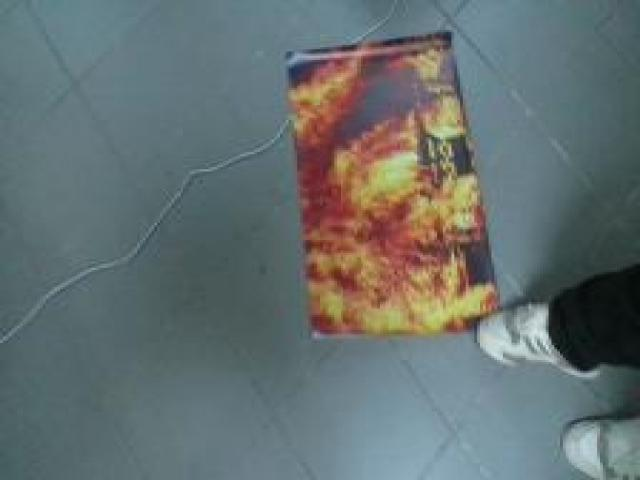fire-poster: (280, 28, 506, 343)
